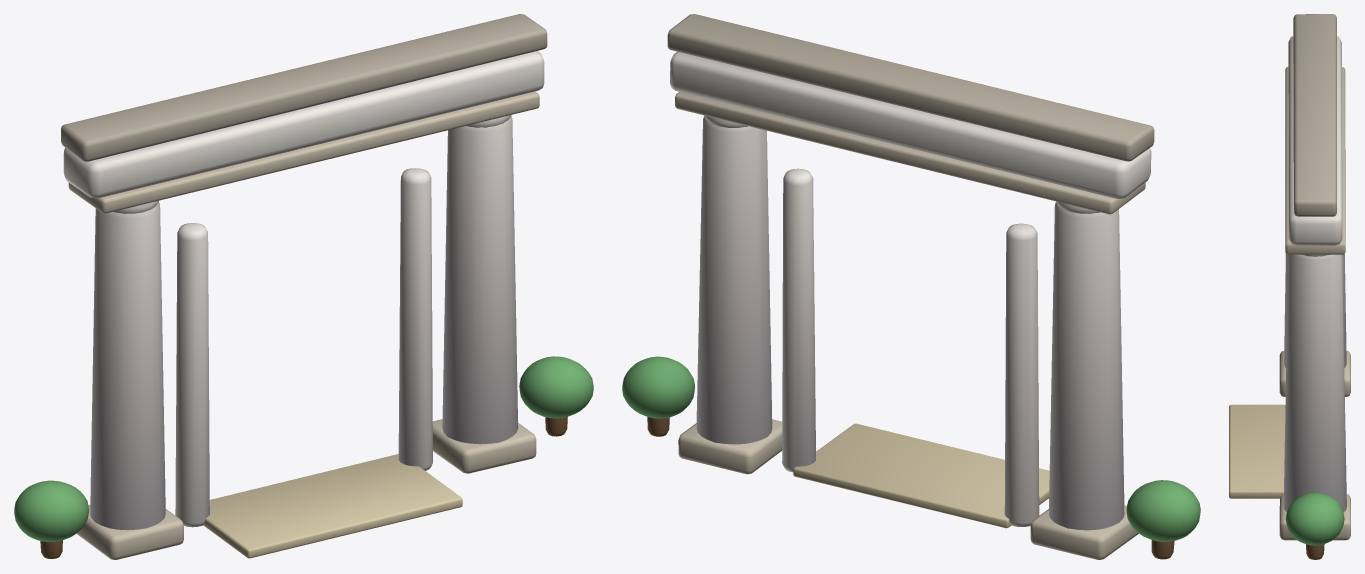
3 views of the same model, side by side, from view 1: azimuth 30°, elevation 25°; view 2: azimuth 150°, elevation 25°; view 3: azimuth 270°, elevation 25° (orthographic). The views are drawn at different scales.
Parts seen in each view (by area): view 1: gate_ae1f98a5; view 2: gate_ae1f98a5; view 3: gate_ae1f98a5.
Part boxes in pixels (box(x1,y1,x2,y2)): gate_ae1f98a5: box(14, 14, 593, 559); gate_ae1f98a5: box(622, 14, 1200, 559); gate_ae1f98a5: box(1229, 14, 1350, 559).
Bounding box in the file's own units: 6.36 × 4.47 × 1.41.
